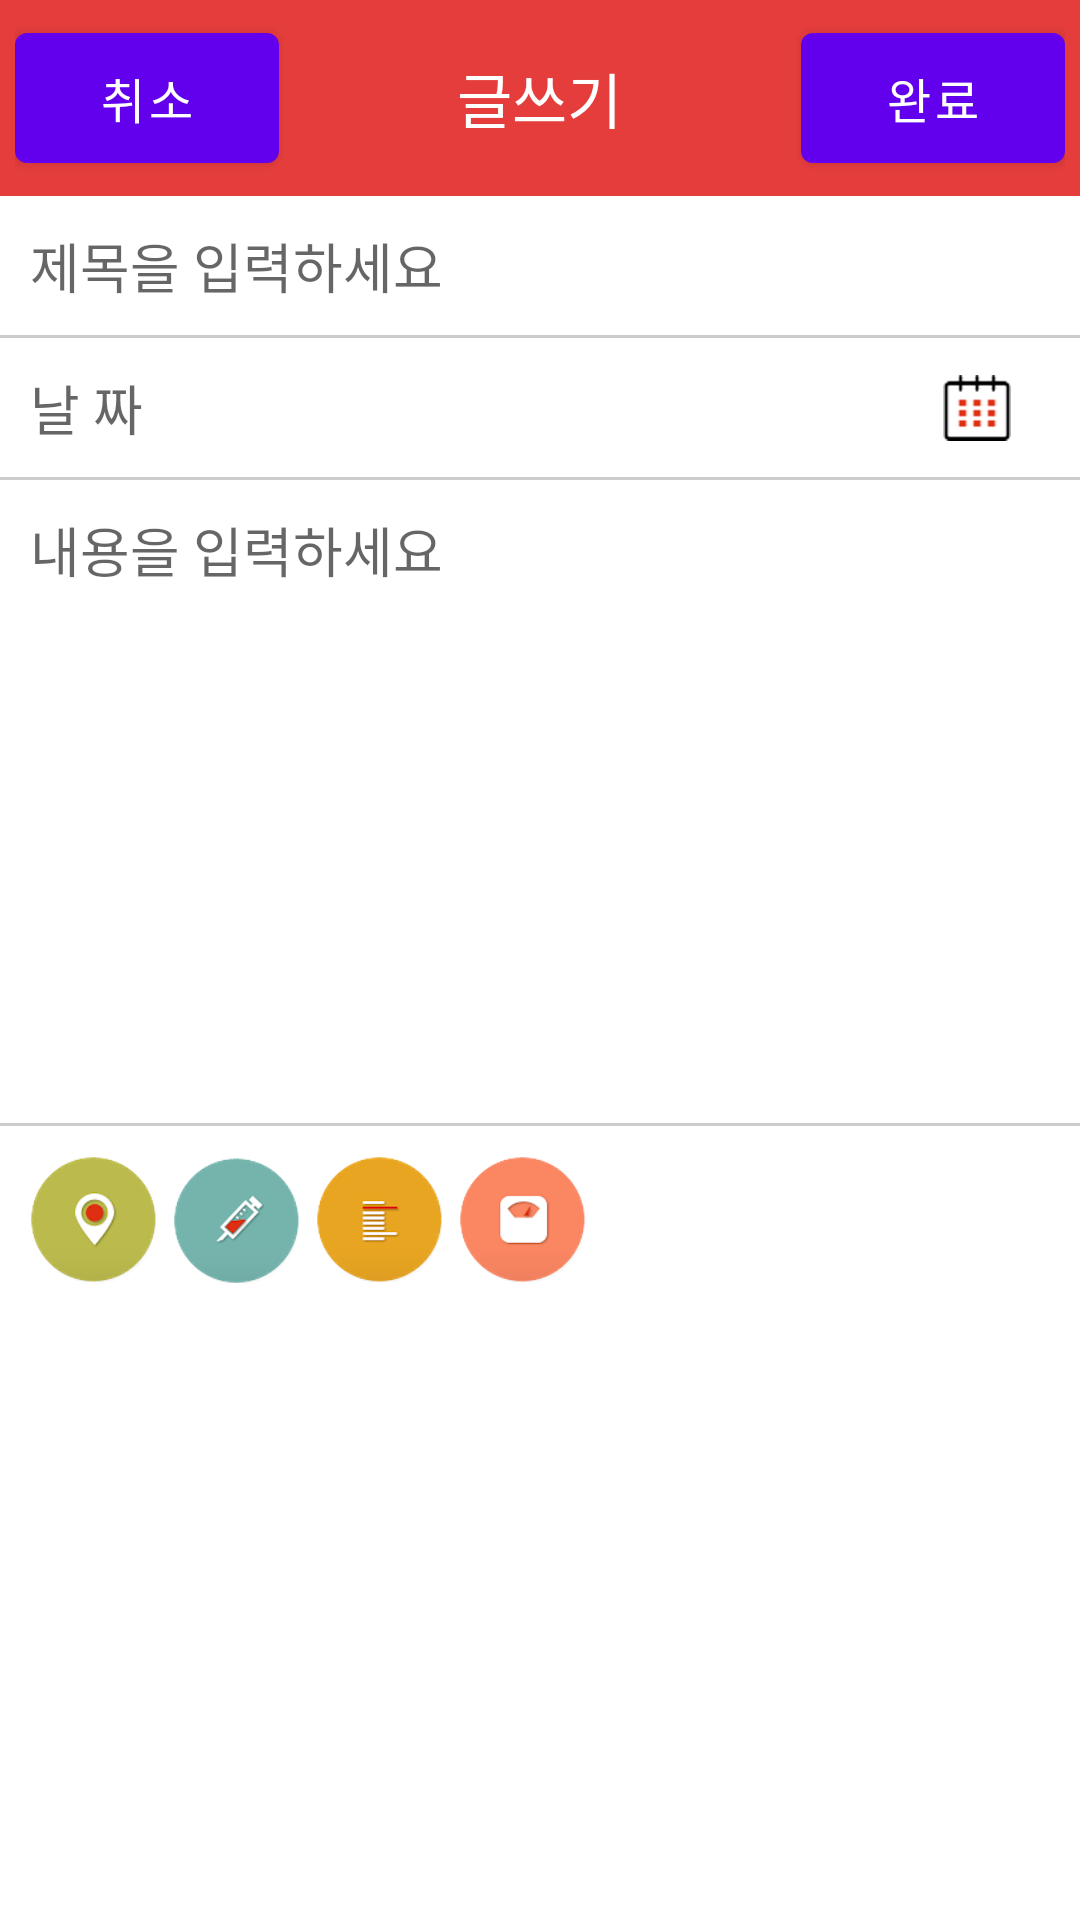

Icons on this 1080x1920 Android screen, each with the point to tap as [x,y]:
diary calendar: [977,408]
diary height: [379,1219]
diary location: [93,1219]
diary vaccine: [236,1220]
diary weight: [522,1219]
